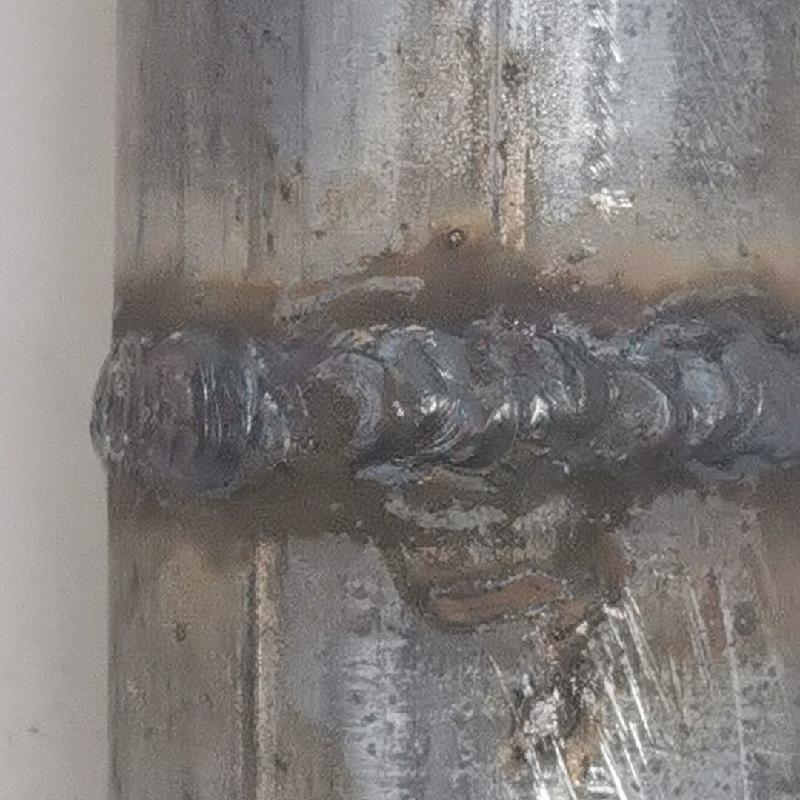good: (78, 300, 798, 497)
